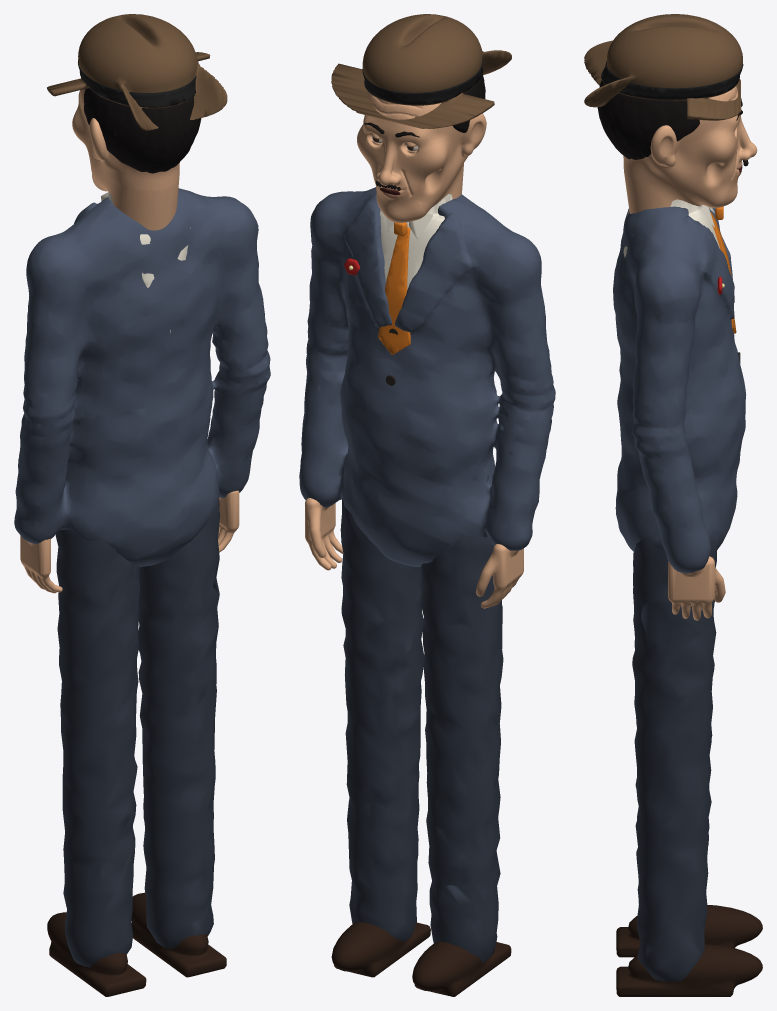
File: reggie.fbx
3 renders of one model, left to right at view 1: azimuth 30°, elevation 25°; view 2: azimuth 150°, elevation 25°; view 3: azimuth 270°, elevation 25°, orthographic.
Visible parts, largest first — view 1: Body, Hat, Head, HandR, HandL; view 2: Body, Hat, Head, HandL, HandR; view 3: Body, Head, Hat, HandL.
Boxes of the visible parts, x1=… form: Body: x1=14, y1=188, x2=270, y2=996; Hat: x1=47, y1=14, x2=227, y2=130; Head: x1=72, y1=88, x2=201, y2=230; HandR: x1=20, y1=535, x2=62, y2=593; HandL: x1=218, y1=490, x2=239, y2=552; Body: x1=299, y1=187, x2=555, y2=996; Hat: x1=331, y1=14, x2=511, y2=128; Head: x1=357, y1=75, x2=486, y2=222; HandL: x1=305, y1=498, x2=343, y2=570; HandR: x1=476, y1=544, x2=523, y2=608; Body: x1=613, y1=199, x2=762, y2=996; Head: x1=597, y1=80, x2=757, y2=213; Hat: x1=584, y1=14, x2=743, y2=120; HandL: x1=668, y1=556, x2=725, y2=620.
Bounding box in the file's own units: 0.48 × 1.78 × 0.3052.
